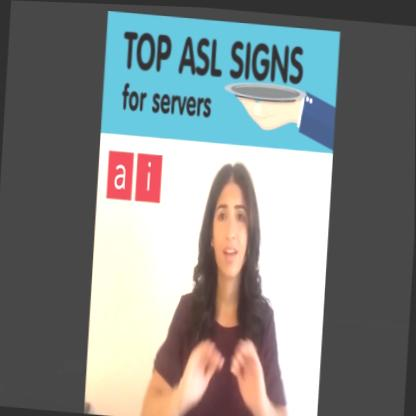HowAreYou: (172, 313, 272, 416)
